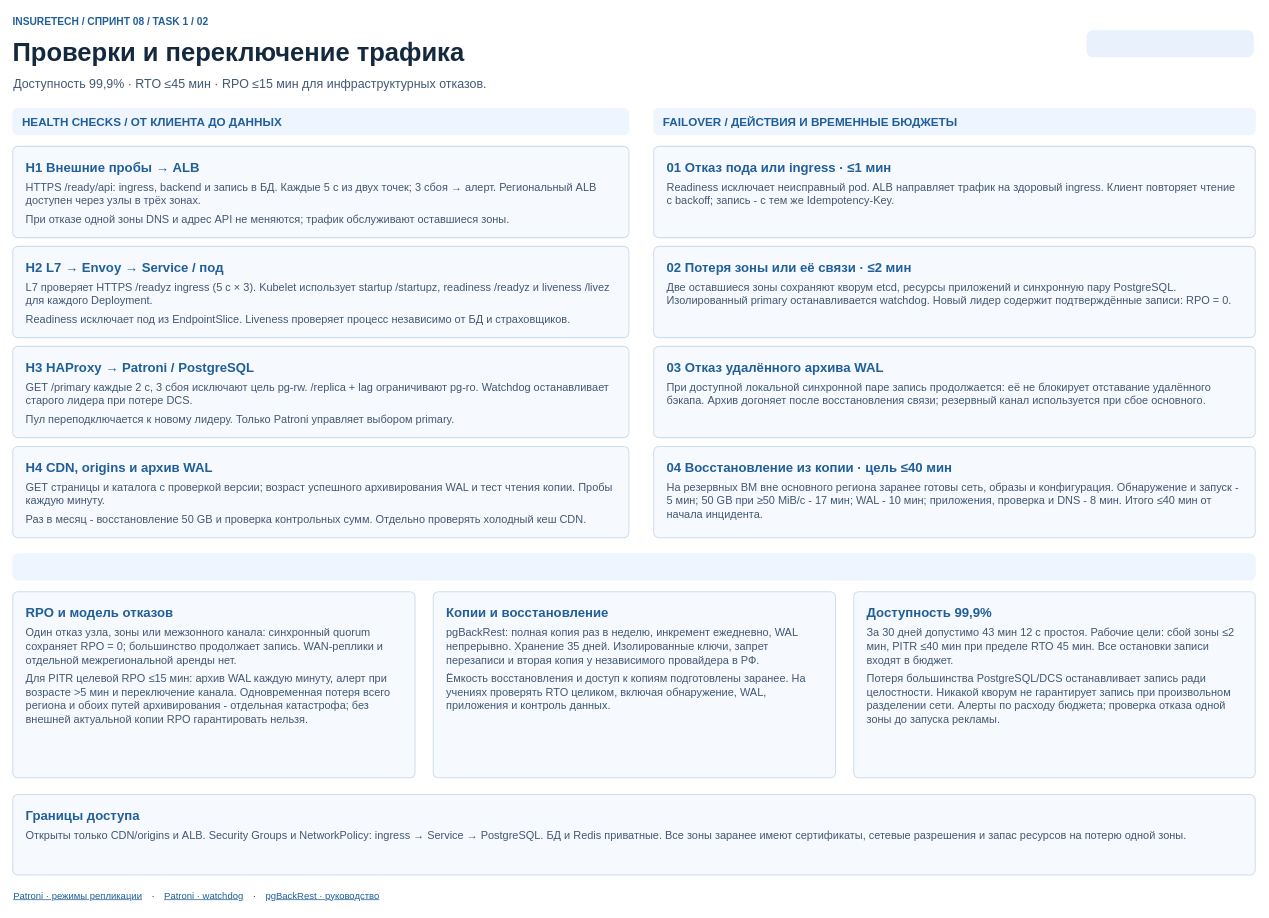
Some shapes in this 1269 by 918 pixel diagram are drawn without their labels. Each missing label, with the centre of its shape:
"ДАННЫЕ / RPO, РЕЗЕРВНЫЕ КОПИИ И ПРОВЕРКА ВОССТАНОВЛЕНИЯ" goes at pixel 633 566.
"ЭКСПЛУАТАЦИЯ / DR" goes at pixel 1169 43.
